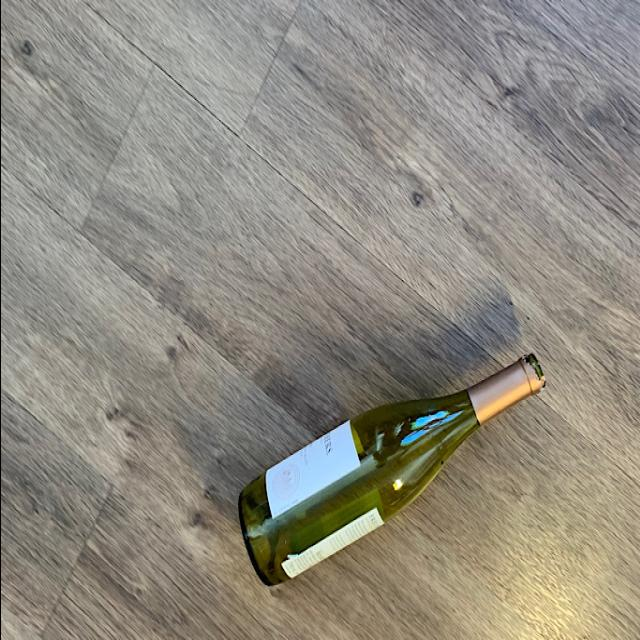Glass Bottle: (234, 351, 544, 591)
